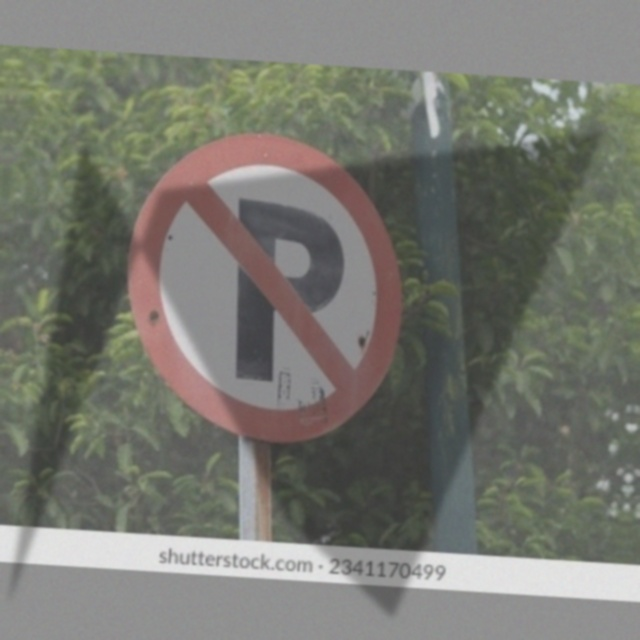No_Parking: (121, 121, 409, 446)
